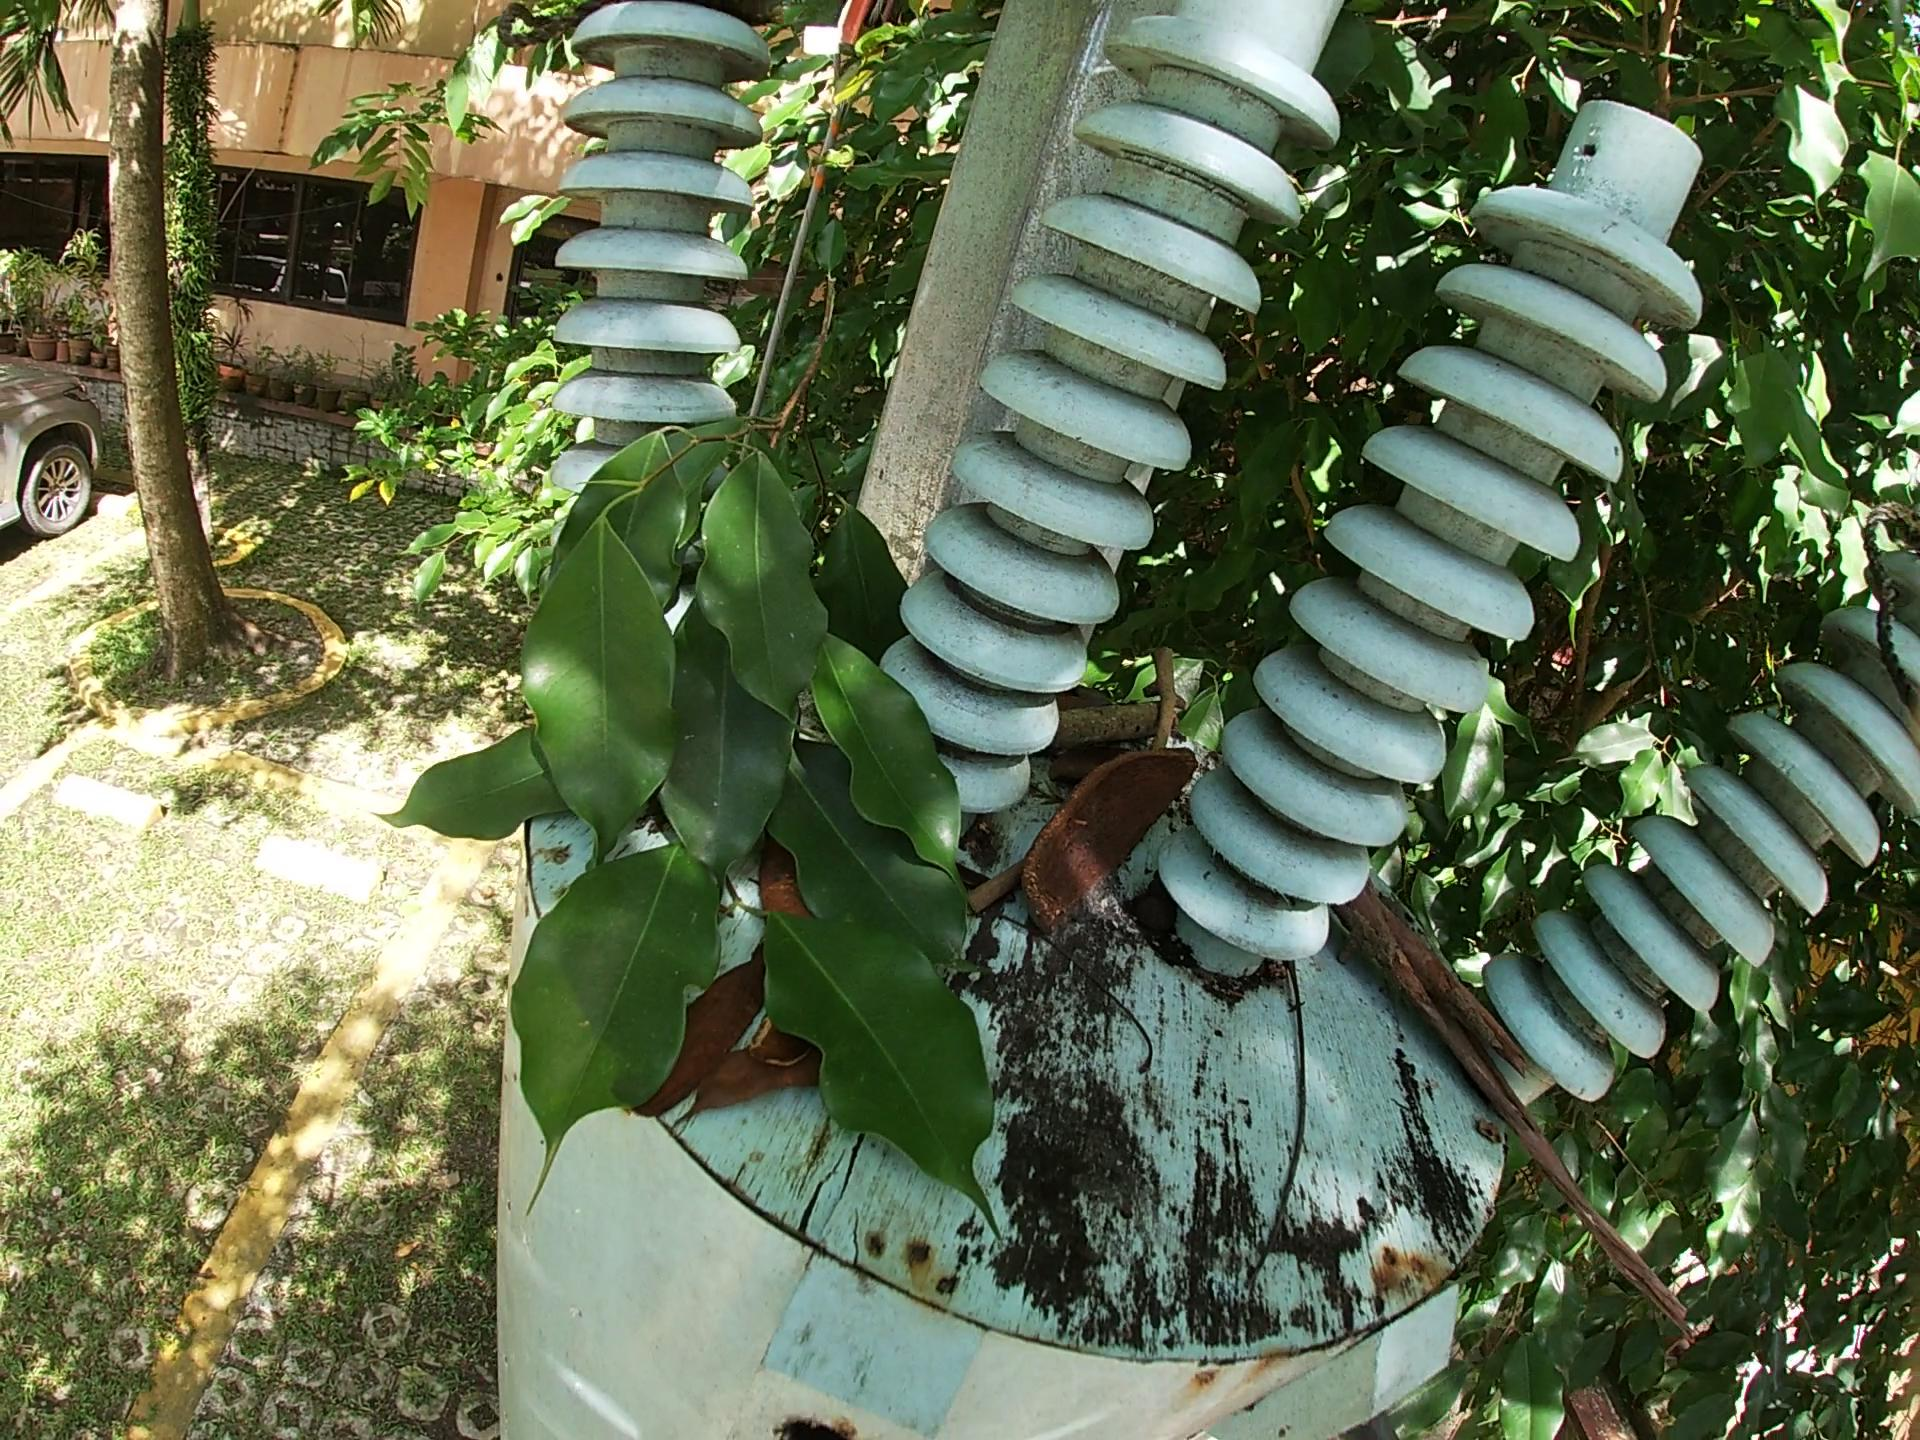branch with leaves: (386, 268, 1036, 1213)
mahogany fruit: (1023, 746, 1208, 927), (646, 957, 797, 1095), (742, 814, 806, 924)
tree branch: (1332, 864, 1719, 1351), (980, 911, 1147, 1103), (1240, 959, 1308, 1301), (1054, 697, 1161, 735), (1144, 637, 1179, 749), (957, 855, 1027, 906)
